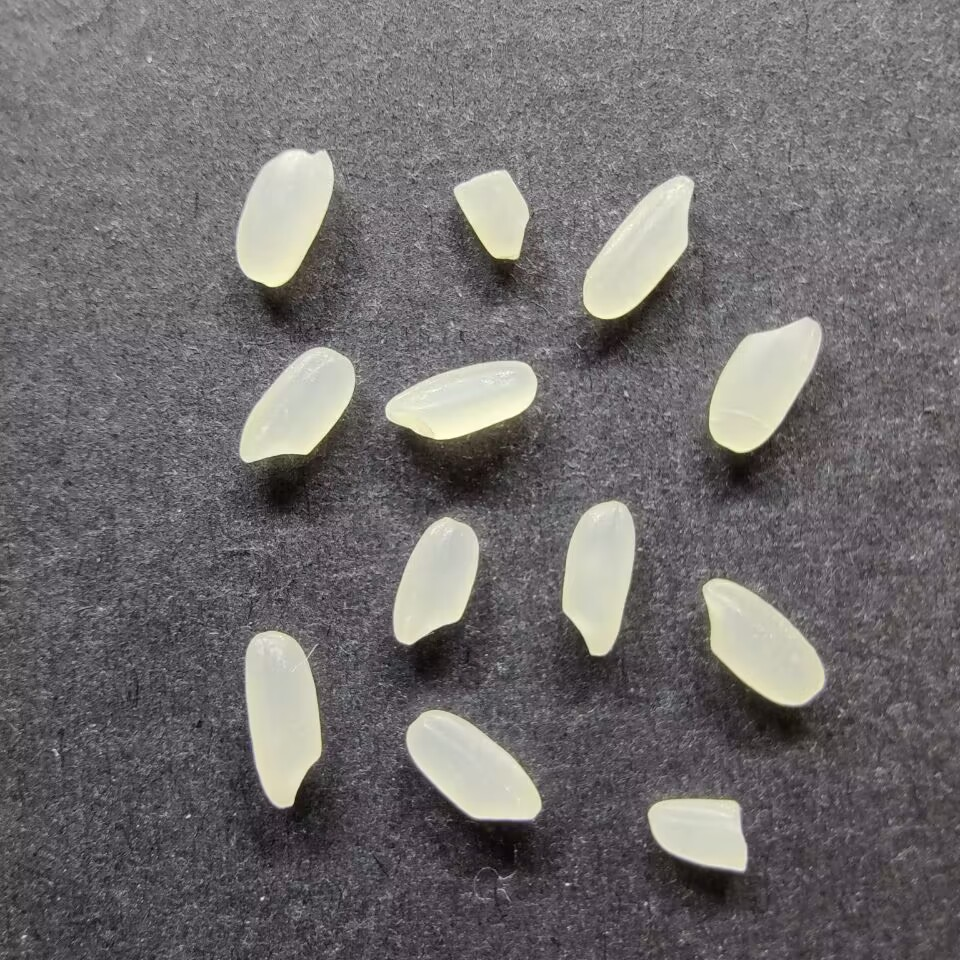broken: (647, 798, 748, 875), (452, 169, 530, 261)
rice: (581, 175, 694, 319), (701, 577, 825, 707), (708, 316, 823, 454), (404, 708, 541, 822), (234, 147, 334, 287), (244, 630, 322, 809), (238, 347, 355, 463), (384, 359, 537, 440), (561, 501, 635, 657), (391, 517, 479, 646)
